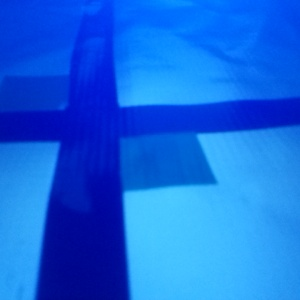top_left: (135, 142, 297, 267)
